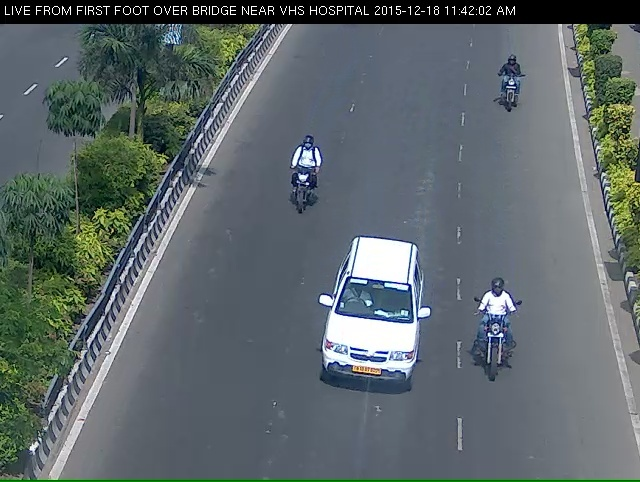Car: (309, 262, 430, 439)
Person: (463, 319, 527, 430), (279, 156, 324, 237), (492, 65, 528, 133)
